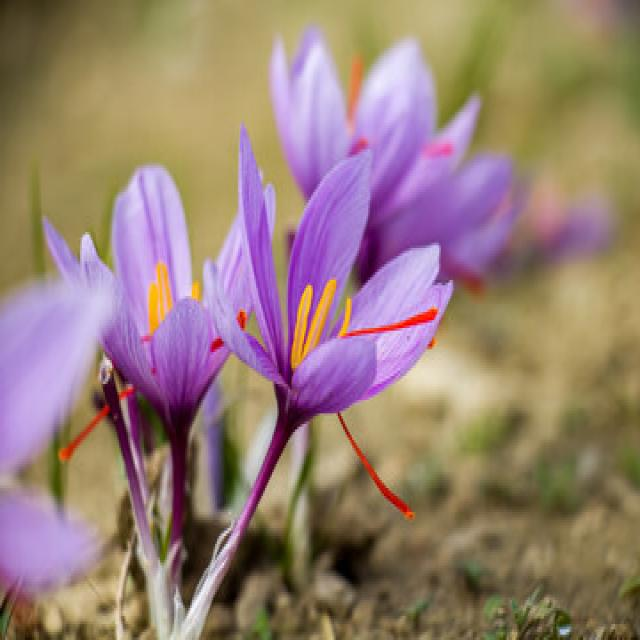saffron open: (195, 129, 452, 615), (272, 28, 516, 283), (101, 169, 229, 585), (218, 219, 250, 324), (46, 223, 71, 266), (81, 236, 105, 270)
